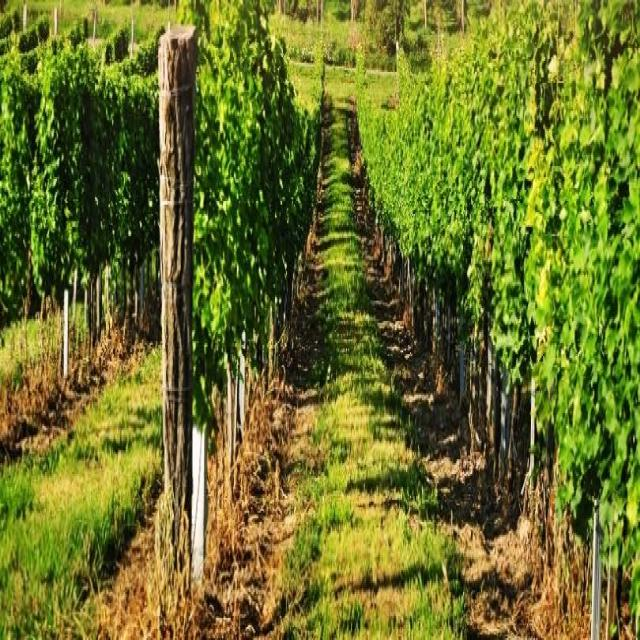row: (207, 109, 547, 640), (0, 319, 256, 639)
